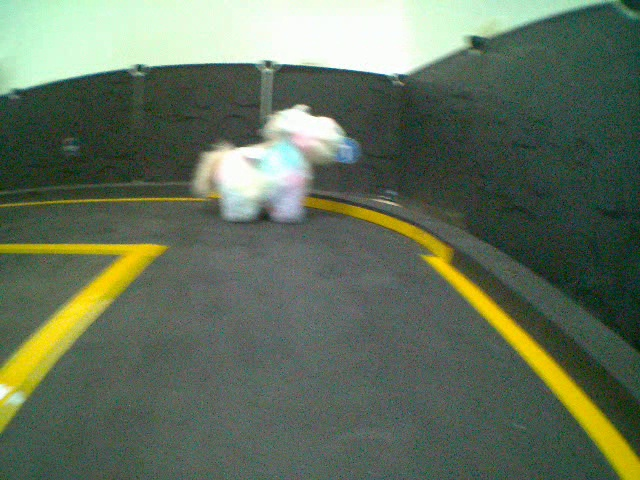unicorn: (187, 101, 347, 228)
